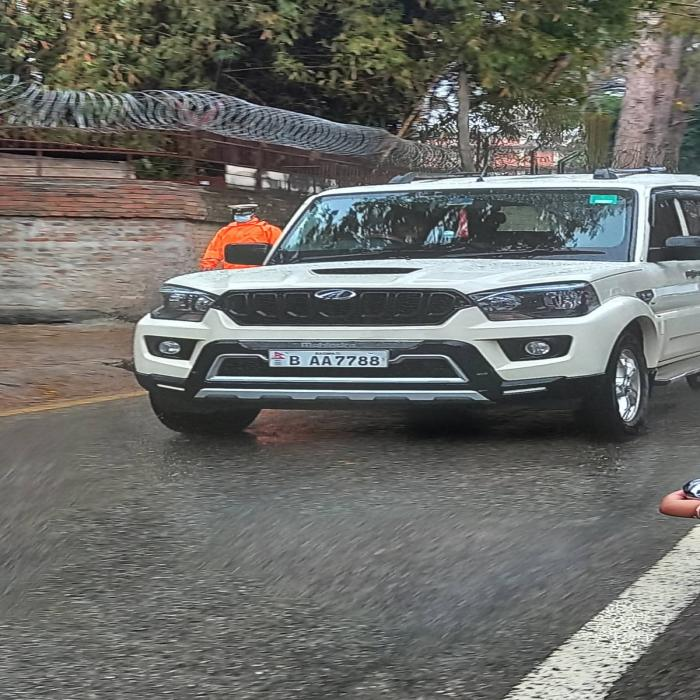number_plate: (268, 350, 386, 366)
